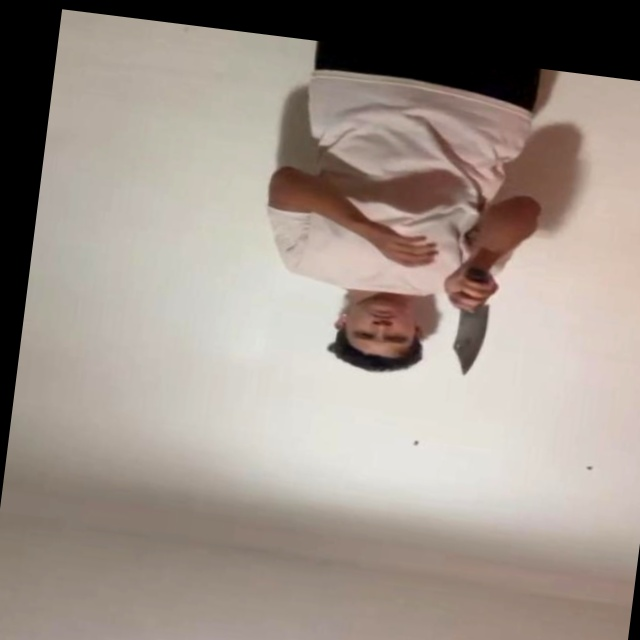Sharp-Object: (446, 306, 492, 380)
